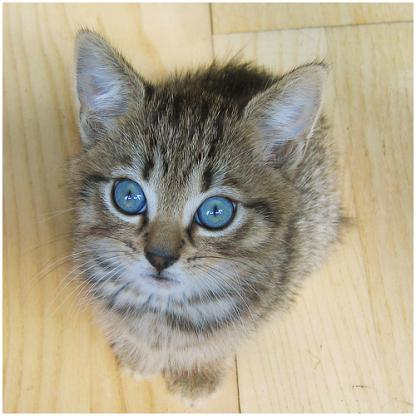cat: (43, 11, 357, 416)
